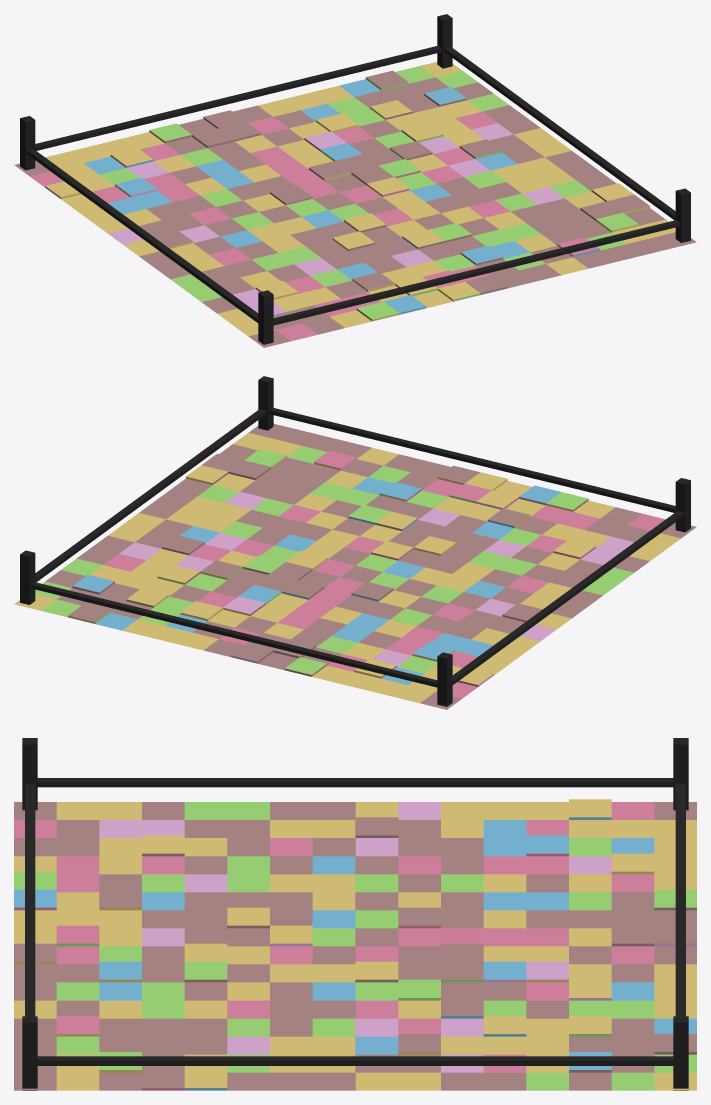
The model's file is zemin ve köşe belirleyiciler.fbx.
3 views of the same model, one above another, from view 1: azimuth 30°, elevation 25°; view 2: azimuth 150°, elevation 25°; view 3: azimuth 270°, elevation 25° (orthographic). The views are drawn at different scales.
Visible parts, largest first — view 1: Plane, Cube.010, Cube.011, Cube.009; view 2: Plane, Cube.010, Cube.011, Cube.009; view 3: Plane, Cube.011, Cube.010, Cube.009.
Part boxes in pixels (left/top/right/bottom): Plane: left=14, top=62, right=696, bottom=347; Cube.010: left=35, top=45, right=680, bottom=325; Cube.011: left=27, top=47, right=675, bottom=322; Cube.009: left=20, top=14, right=690, bottom=344; Plane: left=14, top=424, right=696, bottom=709; Cube.010: left=30, top=407, right=675, bottom=687; Cube.011: left=35, top=409, right=683, bottom=684; Cube.009: left=20, top=376, right=690, bottom=706; Plane: left=14, top=799, right=696, bottom=1090; Cube.011: left=37, top=778, right=673, bottom=1065; Cube.010: left=25, top=783, right=685, bottom=1016; Cube.009: left=22, top=738, right=688, bottom=1090.
Size of the model in its own units: 3020 by 333 by 3020.
